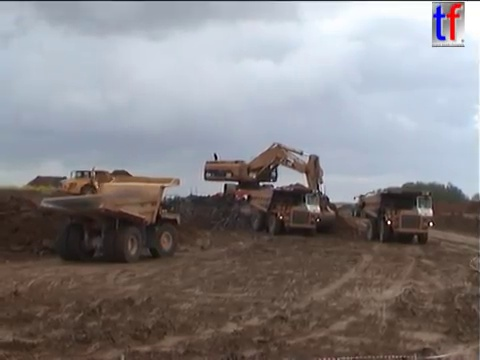excavator: (201, 140, 337, 233), (208, 188, 284, 215)
truck: (38, 174, 183, 264), (360, 190, 434, 245), (246, 184, 322, 233), (57, 167, 139, 201), (349, 193, 385, 219)
